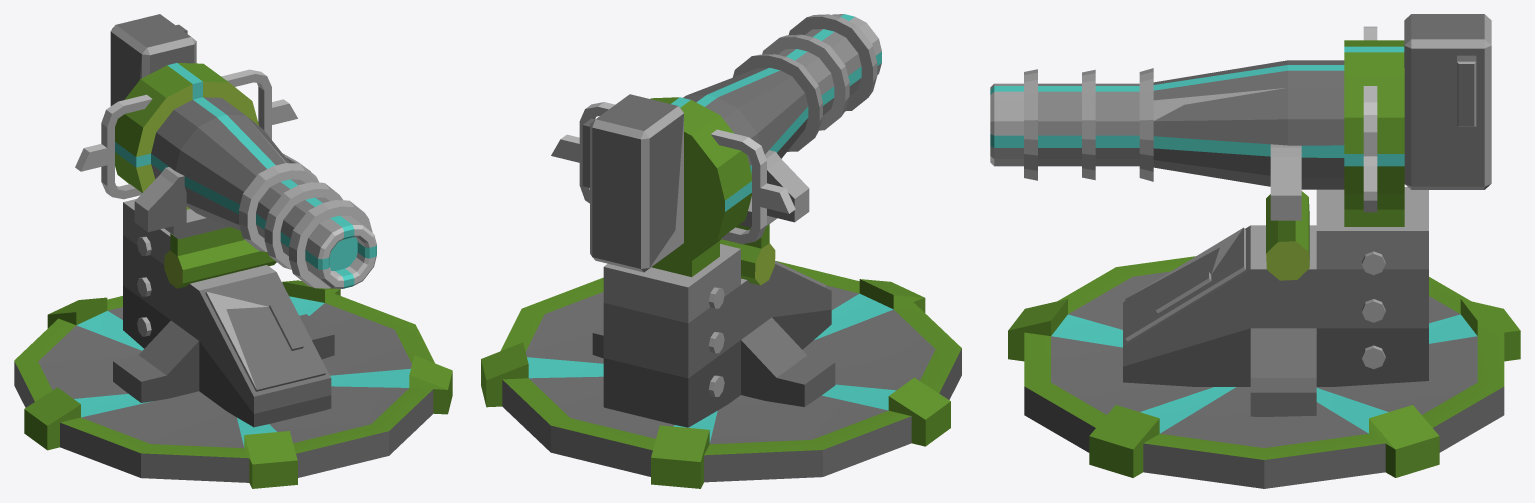
File: tower_laser_green_2.fbx
3 views of the same model, side by side, from view 1: azimuth 30°, elevation 25°; view 2: azimuth 150°, elevation 25°; view 3: azimuth 270°, elevation 25° (orthographic). The views are drawn at different scales.
Visible parts, largest first — view 1: top_laser_green_2, tower_laser_green_2; view 2: top_laser_green_2, tower_laser_green_2; view 3: top_laser_green_2, tower_laser_green_2.
Boxes of the visible parts, x1=… form: top_laser_green_2: x1=75, y1=14, x2=376, y2=427; tower_laser_green_2: x1=14, y1=280, x2=452, y2=488; top_laser_green_2: x1=551, y1=14, x2=881, y2=427; tower_laser_green_2: x1=481, y1=261, x2=961, y2=488; top_laser_green_2: x1=990, y1=14, x2=1491, y2=416; tower_laser_green_2: x1=1008, y1=256, x2=1520, y2=488.
Size of the model in its own units: 147 by 113 by 152.
